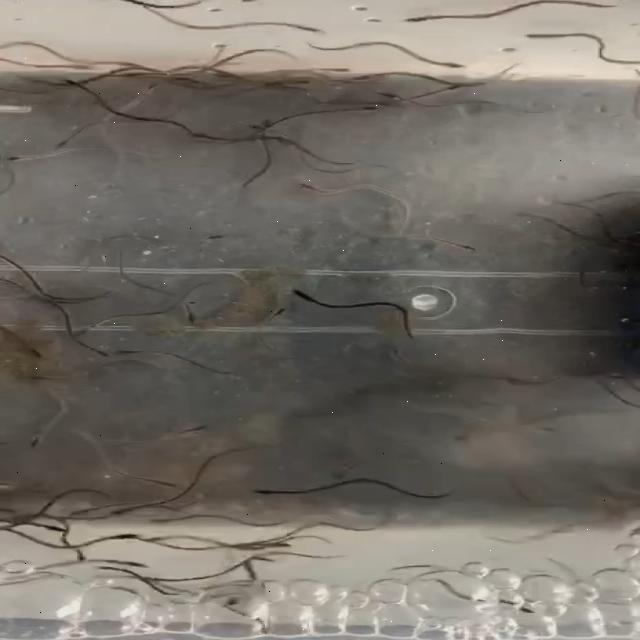active_glass_eel: (280, 286, 326, 306), (0, 150, 47, 168), (494, 599, 538, 618), (510, 27, 574, 40), (311, 63, 375, 75), (295, 178, 340, 195), (252, 536, 296, 553), (172, 421, 222, 435), (72, 320, 108, 339), (14, 342, 52, 359), (63, 506, 115, 518), (276, 76, 320, 90), (178, 303, 206, 325), (200, 227, 243, 241), (48, 58, 98, 70), (338, 105, 388, 117), (137, 82, 172, 99), (46, 136, 78, 154), (282, 22, 322, 36), (443, 240, 478, 256), (252, 488, 292, 502), (106, 508, 146, 522), (267, 304, 297, 322), (162, 72, 206, 84), (402, 12, 442, 25), (28, 431, 52, 452), (144, 475, 180, 489), (114, 532, 156, 544), (216, 594, 244, 611), (110, 559, 156, 569), (362, 92, 406, 102), (202, 72, 242, 82), (428, 59, 466, 69), (438, 82, 476, 92), (68, 548, 90, 564), (64, 77, 88, 91), (36, 522, 69, 532), (115, 348, 147, 358)
